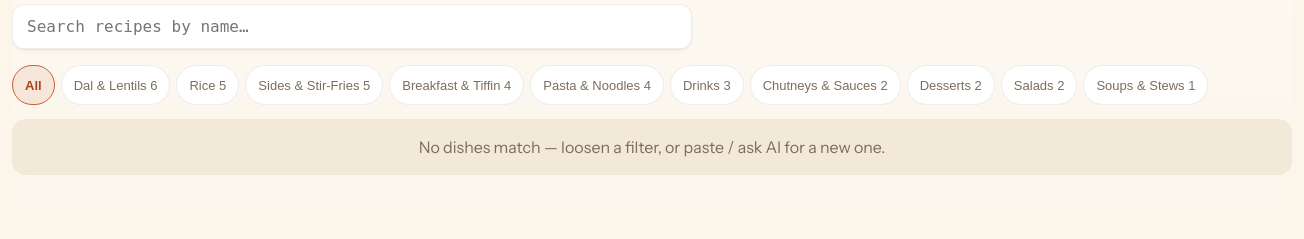
Test: LibraryBrowser (Phase D) › filters by category when a chip is tapped
The image size is (1304, 239).
Click the button "Rice 5": x=208, y=85 [176,65,239,105]
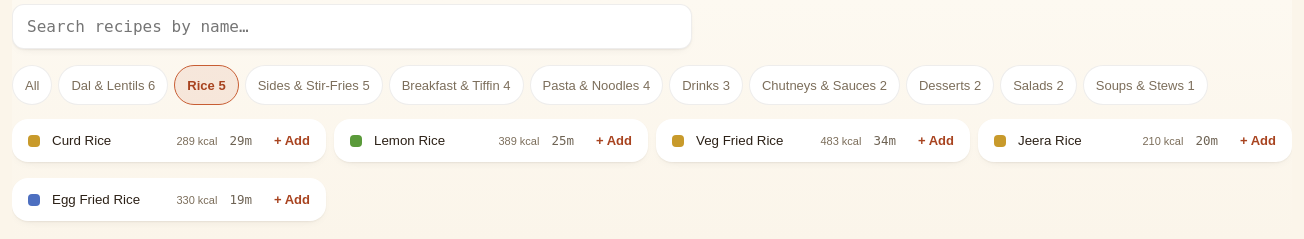
Check: the button "Add " is shown, box [12,119,326,162]
